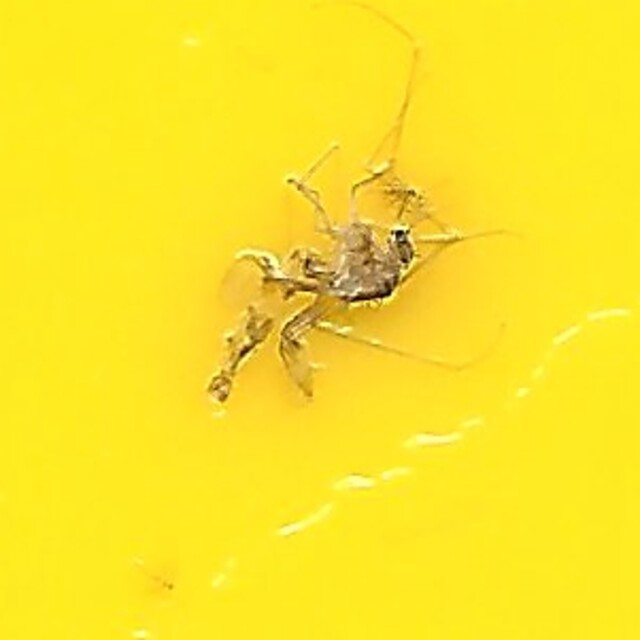Nematocera: (213, 219, 427, 421)
